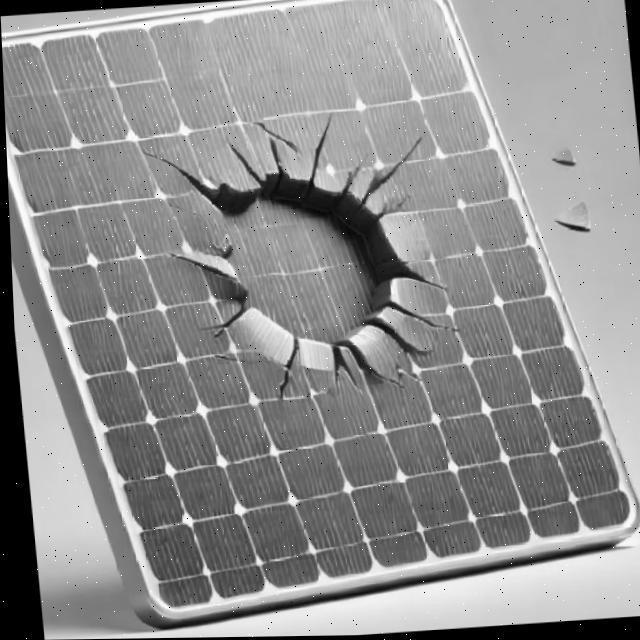Anomaly Solar Panel: (1, 0, 633, 620)
Structural Damage: (182, 154, 414, 360), (138, 137, 231, 214), (352, 126, 426, 207), (339, 339, 403, 398), (386, 299, 458, 338), (164, 247, 238, 282), (199, 301, 254, 341), (252, 116, 303, 155), (307, 108, 334, 181), (272, 338, 301, 403), (327, 342, 361, 396), (227, 137, 264, 186), (392, 260, 446, 289), (267, 131, 289, 177), (163, 199, 203, 219), (340, 162, 362, 196), (207, 350, 248, 367)
